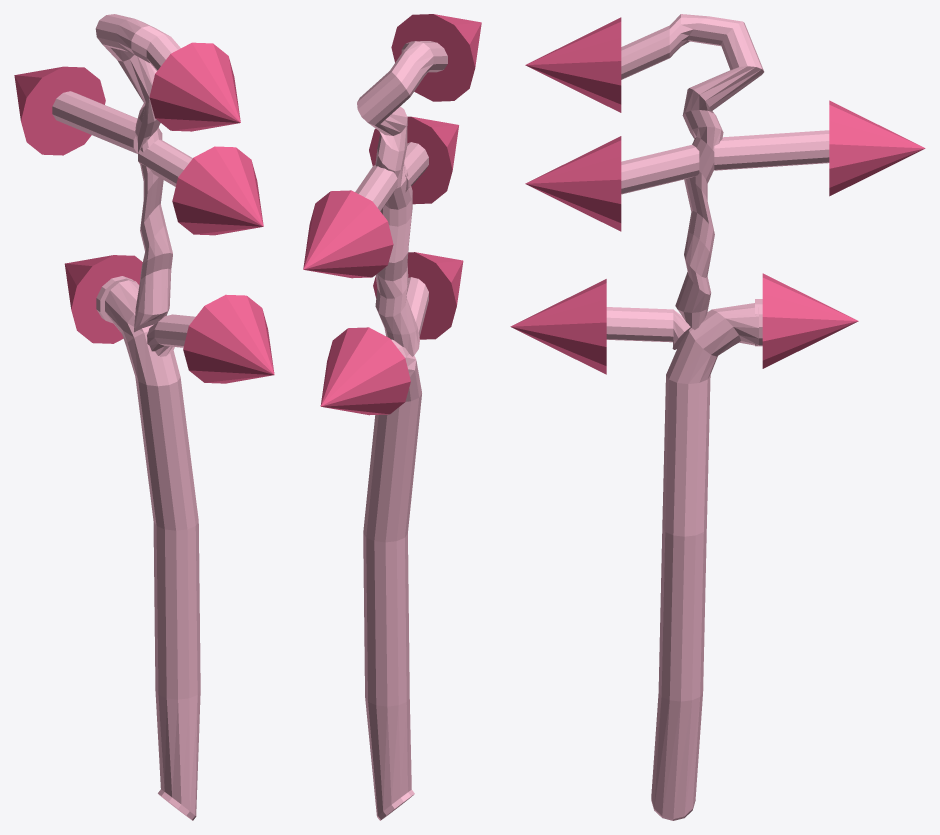
The model's file is desertTree2.fbx.
The picture shows the model from 3 angles, left to right: view 1: azimuth 30°, elevation 25°; view 2: azimuth 150°, elevation 25°; view 3: azimuth 270°, elevation 25°; orthographic projection.
Parts seen in each view (by area): view 1: default; view 2: default; view 3: default.
Part boxes in pixels (<box>): default: <box>14,14,274,820</box>; default: <box>303,14,481,820</box>; default: <box>510,14,925,820</box>.
Bounding box in the file's own units: 0.41 × 2.34 × 1.12.
